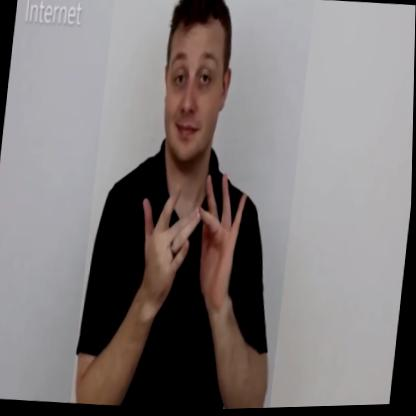Internet: (72, 0, 315, 414)
